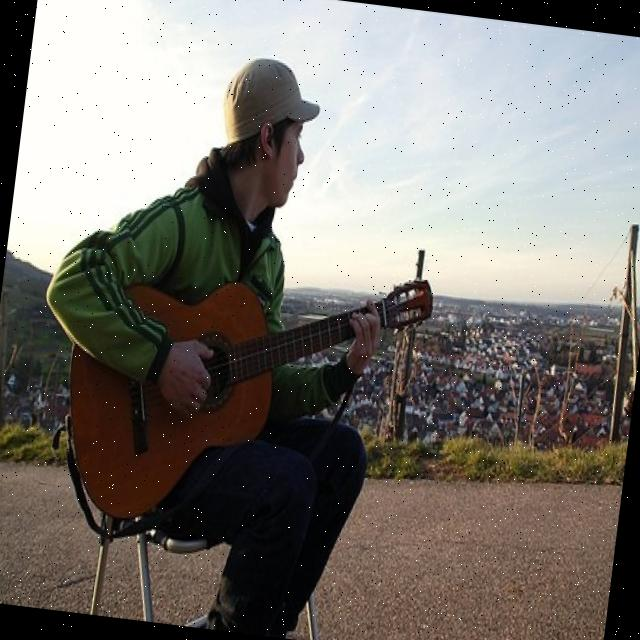guitar: (46, 235, 440, 575)
